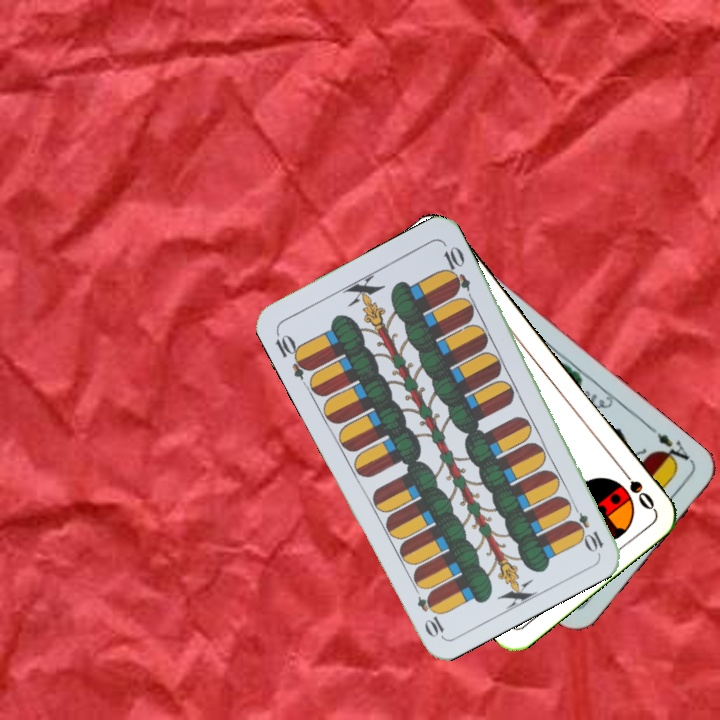E10: (271, 327, 315, 382), (566, 499, 606, 554)
EA: (652, 428, 695, 470)
SO: (615, 462, 657, 513)
